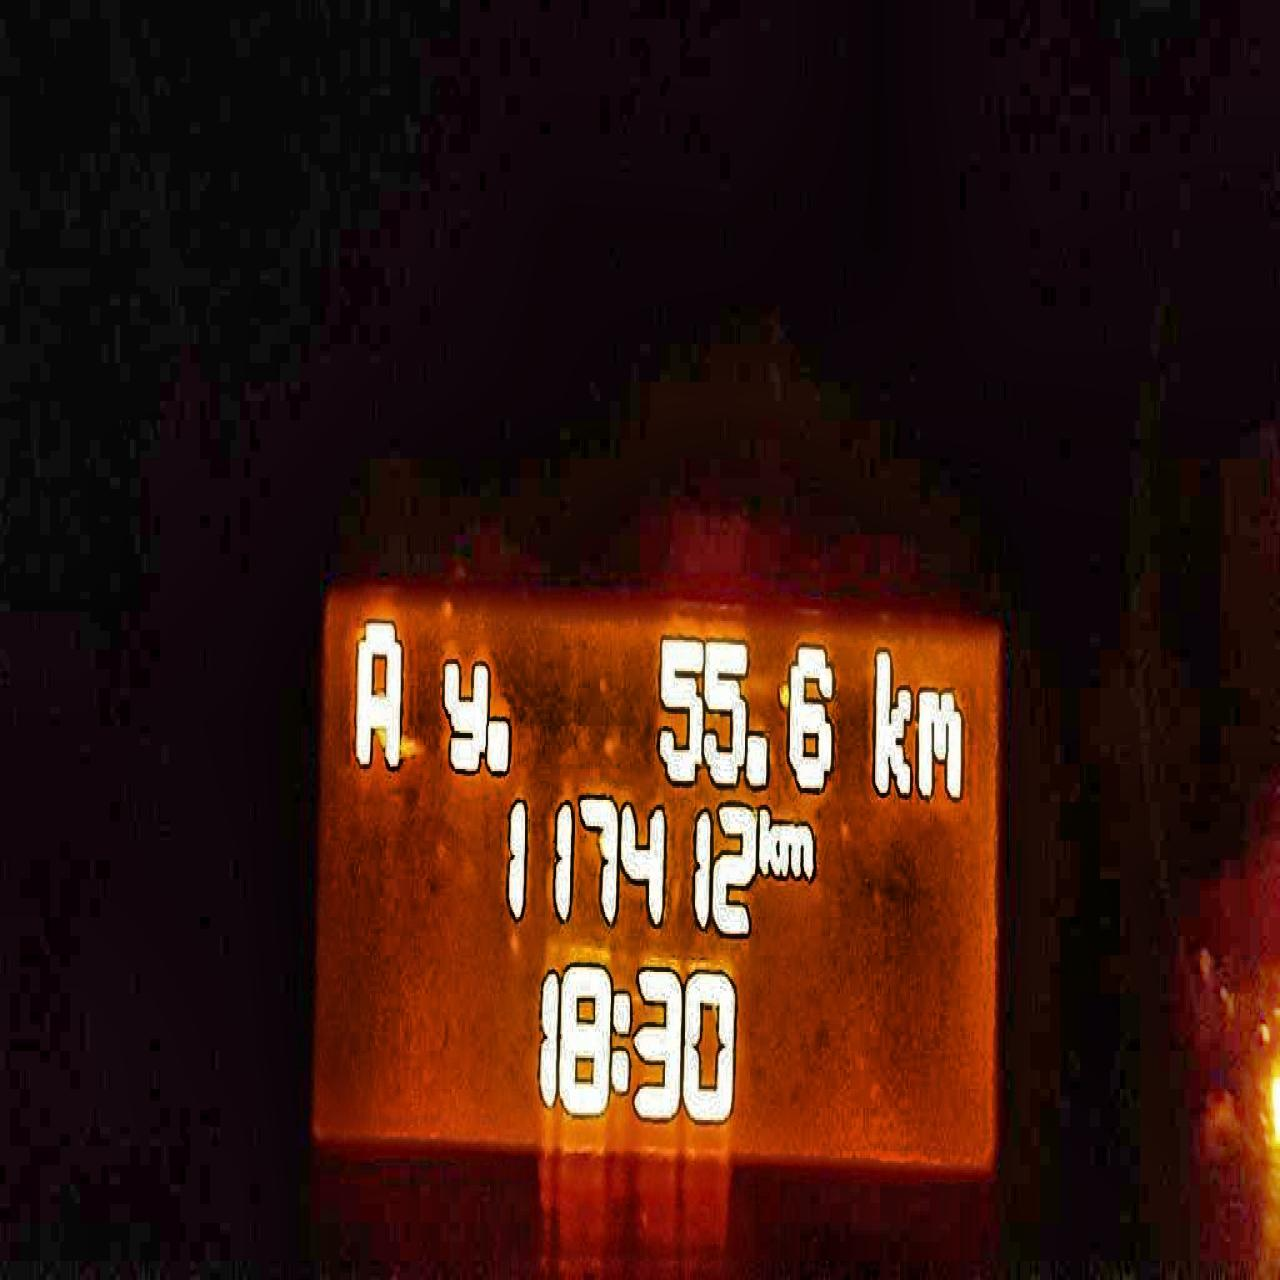-: (488, 707, 512, 781), (747, 726, 771, 790)
0: (683, 965, 736, 1130)
1: (499, 788, 532, 927), (545, 790, 574, 926), (532, 960, 558, 1114), (689, 802, 712, 934)
2: (712, 797, 756, 939)
3: (631, 958, 681, 1130)
4: (619, 797, 666, 926)
5: (652, 628, 702, 788), (704, 628, 745, 791)
6: (784, 635, 837, 795)
7: (578, 785, 618, 931)
8: (560, 955, 610, 1121)
X: (352, 610, 407, 774), (867, 640, 912, 799), (438, 652, 486, 778), (915, 678, 965, 799), (782, 815, 817, 881), (610, 987, 629, 1098), (757, 792, 781, 881)
odometer: (304, 573, 1006, 1185)
